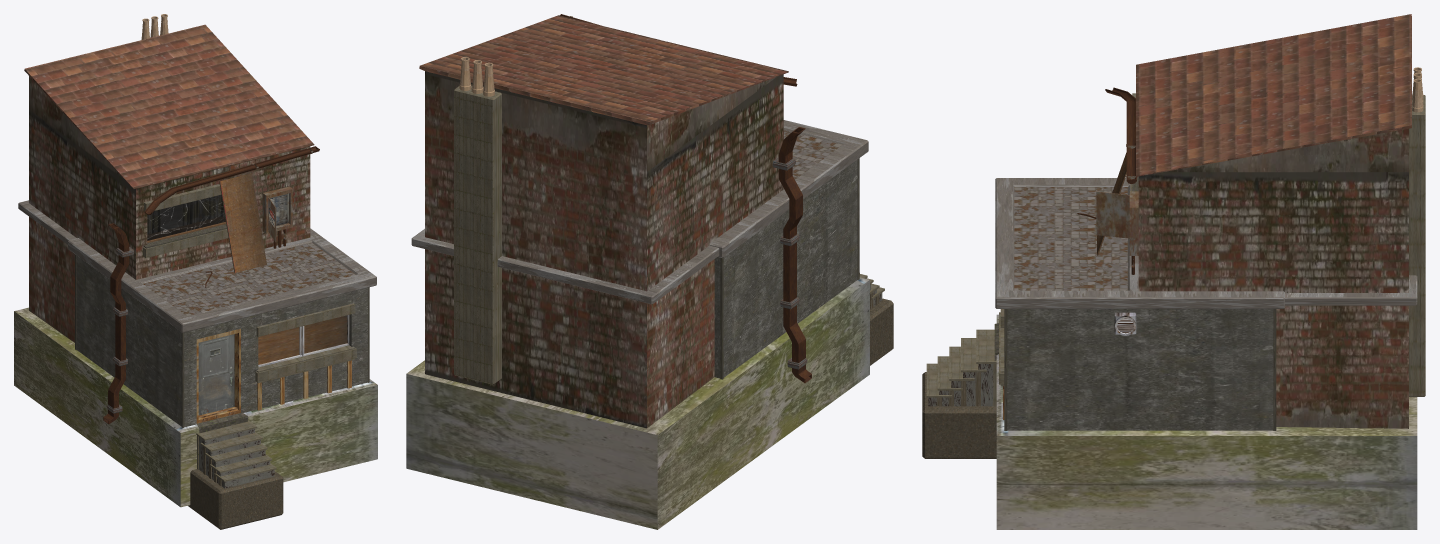
File: casa-ash.glb
3 views of the same model, side by side, from view 1: azimuth 30°, elevation 25°; view 2: azimuth 150°, elevation 25°; view 3: azimuth 270°, elevation 25° (orthographic). The views are drawn at different scales.
Parts seen in each view (by area): view 1: polySurface91_phong7_0, polySurface101_phong5_0, polySurface91_phong6_0, polySurface101_phong4_0, polySurface93_phong9_0, polySurface116_phong11_0, polySurface113_phong17_0, polySurface84_Plywood_0, polySurface100_phong29_0, polySurface126_phong8_0, polySurface101_phong25_0, polySurface91_phong18_0 (+8 smaller); view 2: polySurface91_phong6_0, polySurface101_phong5_0, polySurface91_phong7_0, polySurface101_phong4_0, polySurface113_phong17_0, polySurface93_phong9_0, polySurface126_phong8_0, polySurface100_phong29_0, polySurface116_phong11_0, polySurface92_phong33_0, polySurface101_phong13_0, polySurface181_phong28_0; view 3: polySurface91_phong6_0, polySurface101_phong5_0, polySurface101_phong4_0, polySurface91_phong7_0, polySurface93_phong9_0, polySurface116_phong11_0, polySurface113_phong17_0, polySurface100_phong29_0, polySurface175_phong19_0, polySurface163_phong30_0, polySurface101_phong13_0, polySurface126_phong8_0.
Boxes of the visible parts, x1,y1,x2,y2 form: polySurface91_phong7_0: [24, 24, 314, 189]; polySurface101_phong5_0: [14, 307, 377, 507]; polySurface91_phong6_0: [29, 76, 310, 342]; polySurface101_phong4_0: [76, 256, 367, 427]; polySurface93_phong9_0: [18, 200, 376, 332]; polySurface116_phong11_0: [143, 242, 355, 315]; polySurface113_phong17_0: [143, 184, 356, 481]; polySurface84_Plywood_0: [147, 173, 347, 364]; polySurface100_phong29_0: [188, 469, 283, 529]; polySurface126_phong8_0: [103, 146, 319, 424]; polySurface101_phong25_0: [198, 334, 234, 415]; polySurface91_phong18_0: [147, 195, 225, 240]; polySurface91_phong6_0: [425, 71, 783, 428]; polySurface101_phong5_0: [406, 277, 869, 529]; polySurface91_phong7_0: [419, 15, 788, 125]; polySurface101_phong4_0: [714, 159, 857, 378]; polySurface113_phong17_0: [454, 85, 884, 384]; polySurface93_phong9_0: [411, 120, 868, 304]; polySurface126_phong8_0: [560, 14, 811, 382]; polySurface100_phong29_0: [870, 298, 893, 365]; polySurface116_phong11_0: [783, 130, 842, 179]; polySurface92_phong33_0: [459, 57, 494, 96]; polySurface101_phong13_0: [720, 158, 859, 379]; polySurface181_phong28_0: [772, 157, 807, 369]; polySurface91_phong6_0: [1138, 128, 1408, 428]; polySurface101_phong5_0: [996, 314, 1417, 529]; polySurface101_phong4_0: [1007, 309, 1273, 430]; polySurface91_phong7_0: [1136, 14, 1411, 176]; polySurface93_phong9_0: [995, 178, 1417, 308]; polySurface116_phong11_0: [1014, 187, 1128, 290]; polySurface113_phong17_0: [926, 93, 1425, 406]; polySurface100_phong29_0: [922, 372, 996, 458]; polySurface175_phong19_0: [1096, 144, 1138, 255]; polySurface163_phong30_0: [928, 364, 993, 406]; polySurface101_phong13_0: [994, 177, 1276, 430]; polySurface126_phong8_0: [1077, 87, 1136, 218].
Size of the model in its own units: 0.1421 by 0.217 by 0.2322.
Materials: 26 (26 with a texture image).
